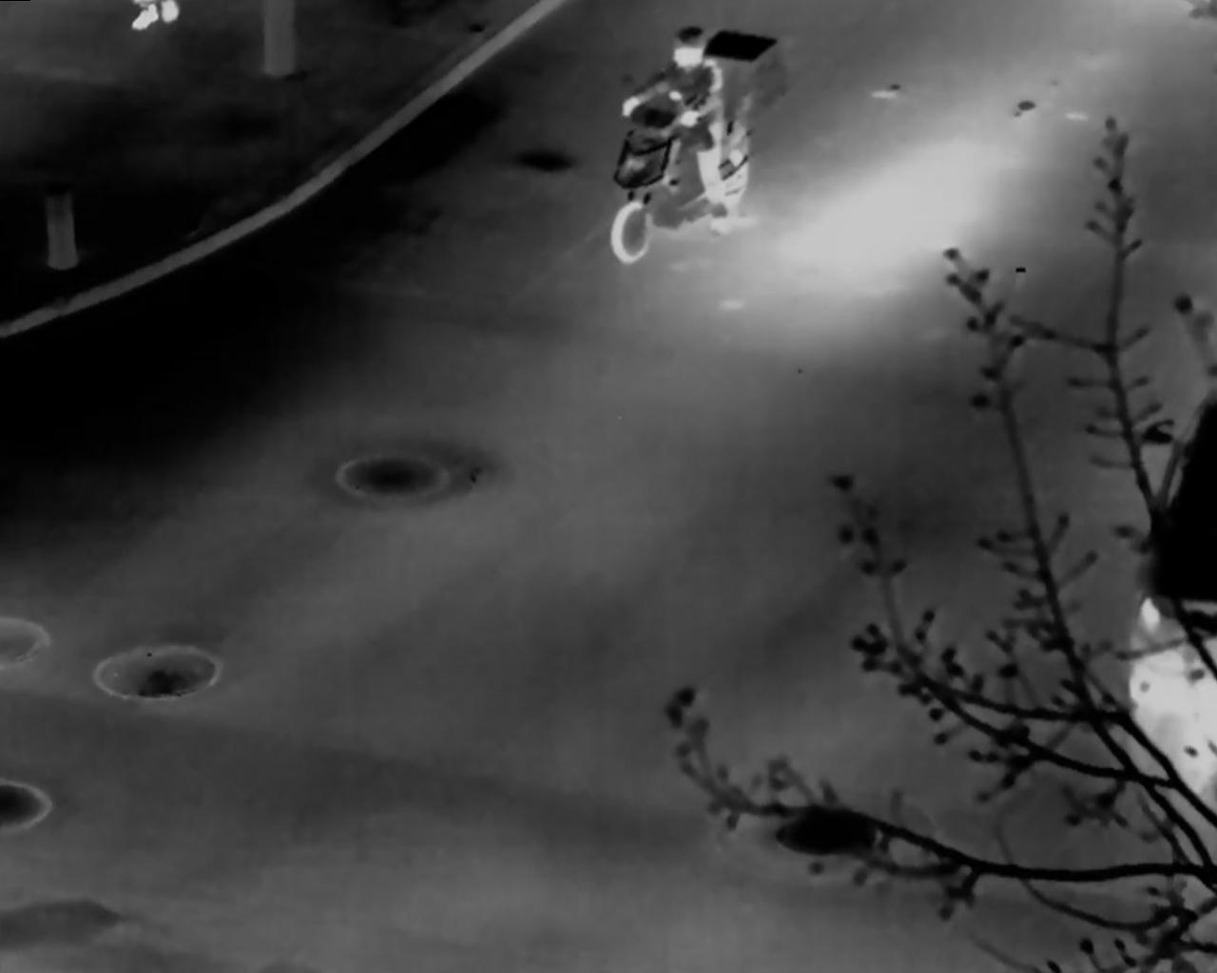person: (622, 25, 730, 236)
